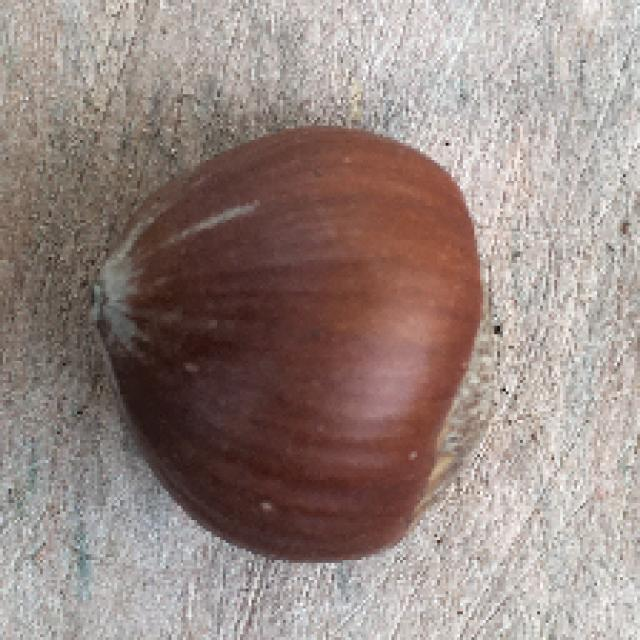damagedHazelnut: (89, 117, 507, 572)
